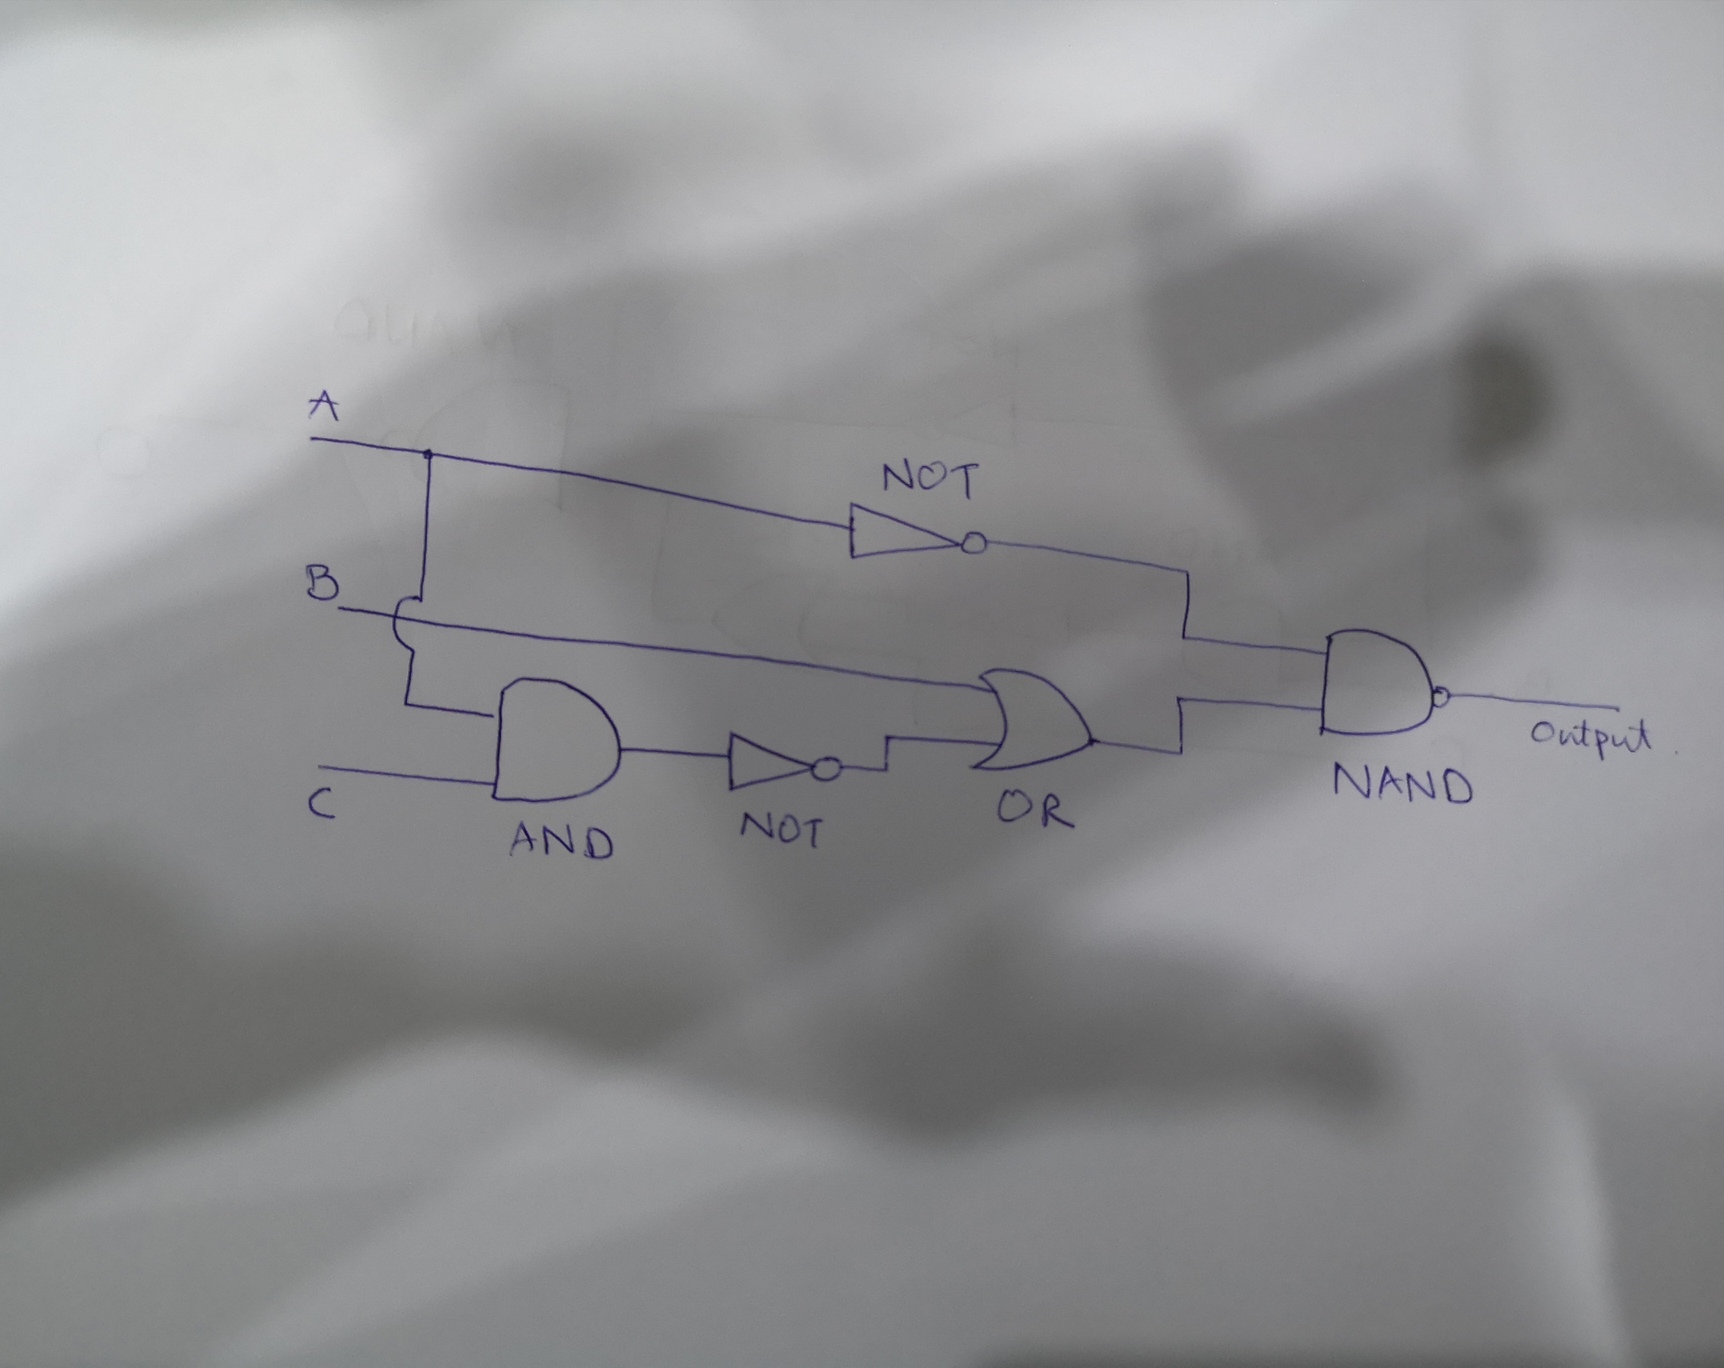and: (483, 671, 628, 807)
crossover: (388, 586, 425, 653)
junction: (416, 443, 439, 469), (1175, 561, 1198, 583), (1173, 627, 1194, 648), (1170, 741, 1189, 760), (397, 695, 416, 713), (1168, 691, 1188, 708), (877, 762, 891, 776), (882, 732, 894, 743)
nand: (1313, 624, 1458, 747)
not: (842, 497, 994, 567), (721, 726, 849, 795)
or: (961, 662, 1105, 776)
terminal: (1601, 697, 1632, 720), (309, 755, 330, 778), (327, 597, 348, 617), (304, 429, 325, 448)
text: (1331, 755, 1481, 808), (1528, 712, 1654, 762), (507, 815, 620, 866), (876, 452, 985, 504), (989, 781, 1079, 835), (735, 803, 830, 853), (302, 560, 341, 601), (304, 383, 341, 427), (305, 781, 340, 821)
